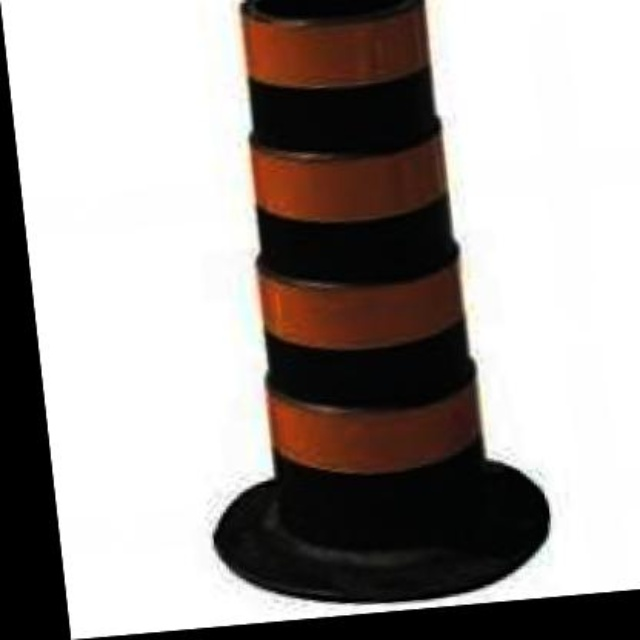obstacle: (215, 0, 487, 539)
